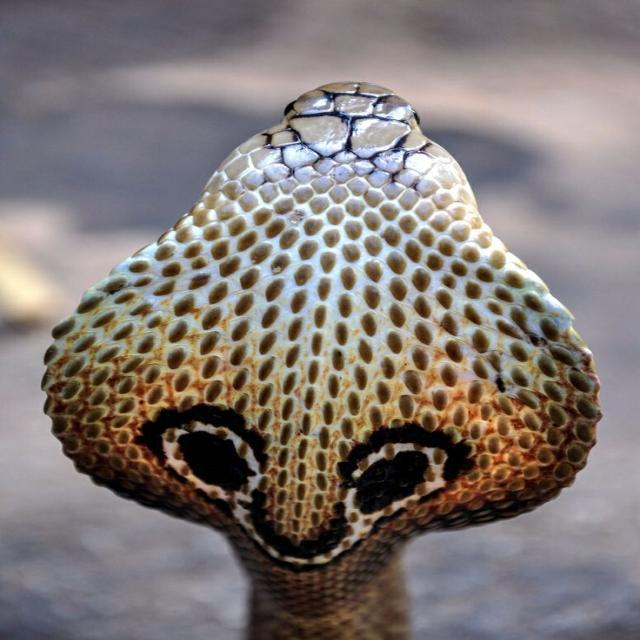Snake: (39, 79, 604, 638)
